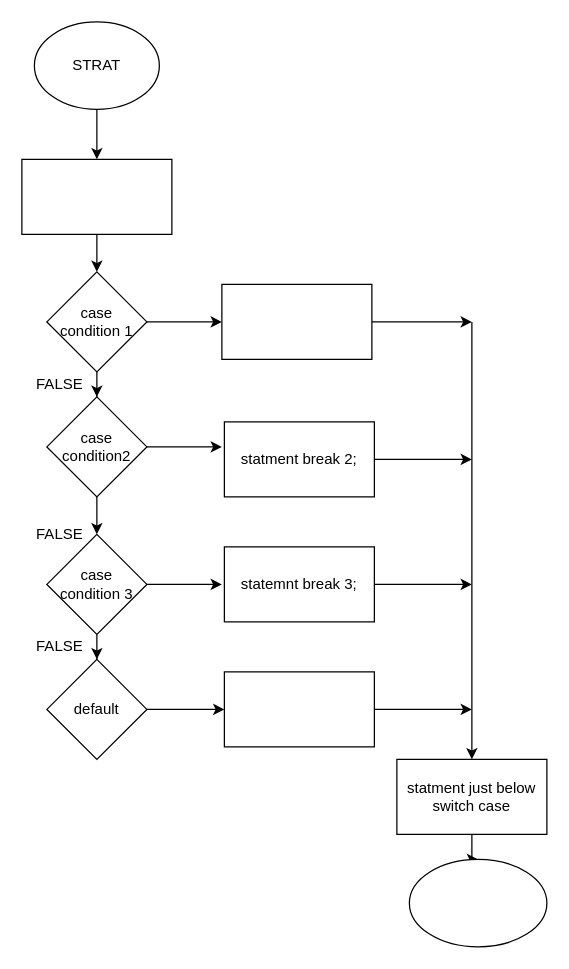
This 569x969 diagram has some shape labels left out. Each missing label, with the centre of its shape:
"default statment" belongs at (298,709).
"END" belongs at (477,902).
"statment break1;" belongs at (296,321).
"switch expression" belongs at (96,196).
